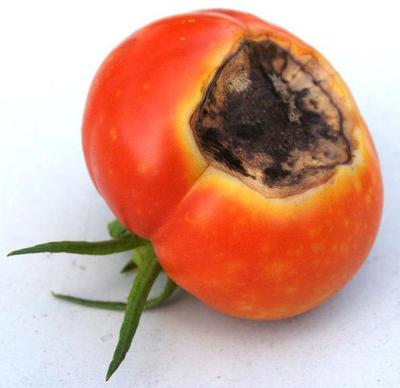blossom_rotw: (188, 19, 372, 206)
